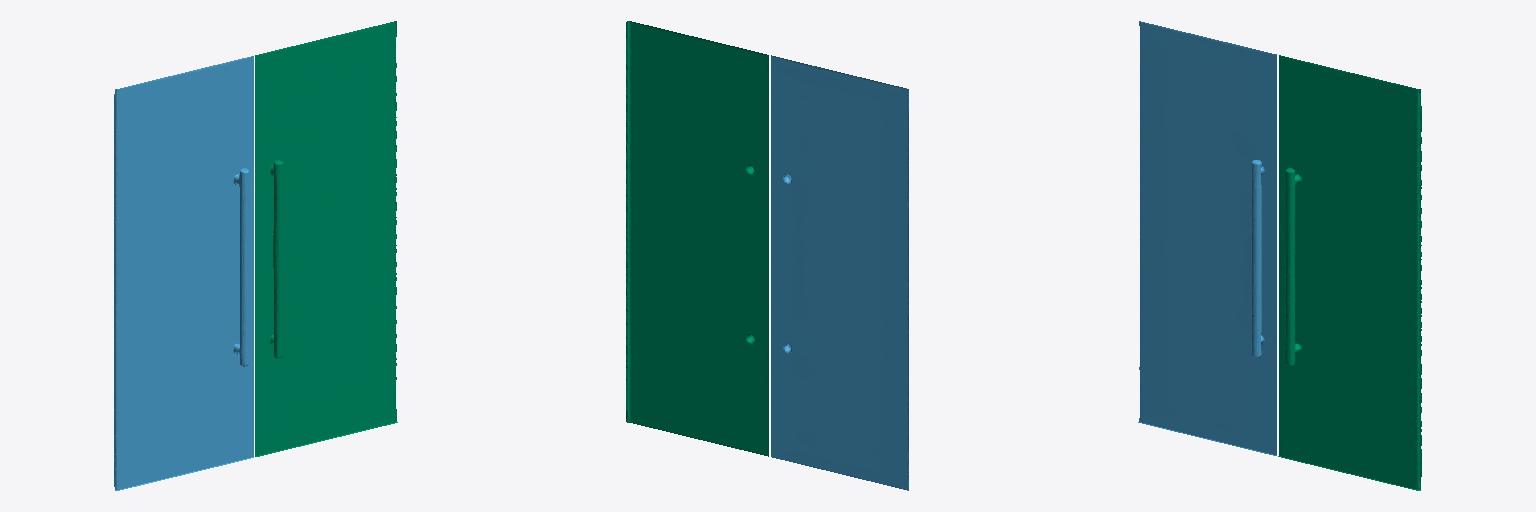
robot.urdf — wardrobe-01:
<robot name="wardrobe-01">
  <link name="body">
    <inertial>
      <origin xyz="-0.000286 0.042522 0.028101" />
      <mass value="120.0000" />
      <inertia ixx="13.058732" iyy="19.719554" izz="7.832366" ixy="0" ixz="0" iyz="0" />
    </inertial>
    <visual>
      <geometry>
        <mesh filename="meshes/body.stl" />
      </geometry>
    </visual>
    <collision><geometry><mesh filename="collision/body_hull01.stl" /></geometry></collision><collision><geometry><mesh filename="collision/body_hull02.stl" /></geometry></collision><collision><geometry><mesh filename="collision/body_hull05.stl" /></geometry></collision><collision><geometry><mesh filename="collision/body_hull07.stl" /></geometry></collision><collision><geometry><mesh filename="collision/body_hull08.stl" /></geometry></collision><collision><geometry><mesh filename="collision/body_hull09.stl" /></geometry></collision><collision><geometry><mesh filename="collision/body_hull10.stl" /></geometry></collision></link>
  <link name="door_left">
    <inertial>
      <origin xyz="0.254823 -0.018600 0.308705" />
      <mass value="0.5000" />
      <inertia ixx="0.056541" iyy="0.048495" izz="0.008199" ixy="0" ixz="0" iyz="0" />
    </inertial>
    <visual>
      <geometry>
        <mesh filename="meshes/door_left.stl" />
      </geometry>
    </visual>
    <collision><geometry><mesh filename="collision/door_left_hull00.stl" /></geometry></collision></link>
  <link name="door_right">
    <inertial>
      <origin xyz="-0.271905 -0.021241 0.320220" />
      <mass value="0.5000" />
      <inertia ixx="0.063260" iyy="0.057400" izz="0.005946" ixy="0" ixz="0" iyz="0" />
    </inertial>
    <visual>
      <geometry>
        <mesh filename="meshes/door_right.stl" />
      </geometry>
    </visual>
    <collision><geometry><mesh filename="collision/door_right_hull00.stl" /></geometry></collision></link>
  <joint name="door_left_joint" type="revolute">
    <parent link="body" />
    <child link="door_left" />
    <origin xyz="-0.376839 -0.170911 0.037848" rpy="0 0 0" />
    <axis xyz="-0.000073 0.000079 -1.000000" />
    <limit lower="0.000000" upper="1.570796" effort="50.0" velocity="1.0" />
  </joint>
  <joint name="door_right_joint" type="revolute">
    <parent link="body" />
    <child link="door_right" />
    <origin xyz="0.379874 -0.169764 0.039995" rpy="0 0 0" />
    <axis xyz="0.000079 0.000110 1.000000" />
    <limit lower="0.000000" upper="1.570796" effort="50.0" velocity="1.0" />
  </joint>
</robot>

--- Facts derived from the render (not from the file) ---
Views: 3 orthographic renders of the robot side by side, from view 1: azimuth 30°, elevation 25°; view 2: azimuth 150°, elevation 25°; view 3: azimuth 330°, elevation 25°.
Robot: wardrobe-01 — 3 links, 2 joints (2 revolute); root link body; default pose: all joints at 0.
Links seen in each view (by area): view 1: door_right, door_left; view 2: door_right, door_left; view 3: door_right, door_left.
Link boxes in pixels (x1=…): door_right: x1=255, y1=21, x2=397, y2=456; door_left: x1=114, y1=56, x2=253, y2=490; door_right: x1=626, y1=21, x2=768, y2=456; door_left: x1=771, y1=55, x2=908, y2=490; door_right: x1=1278, y1=55, x2=1421, y2=490; door_left: x1=1138, y1=21, x2=1276, y2=455.
Bounding box of the posed robot: 0.7768 × 0.0433 × 1.06 m (x, y, z).
2 mesh visuals loaded from 3 distinct referenced files (2 binary STL); not drawn: 1 (reference not matched to a file when rendering).
